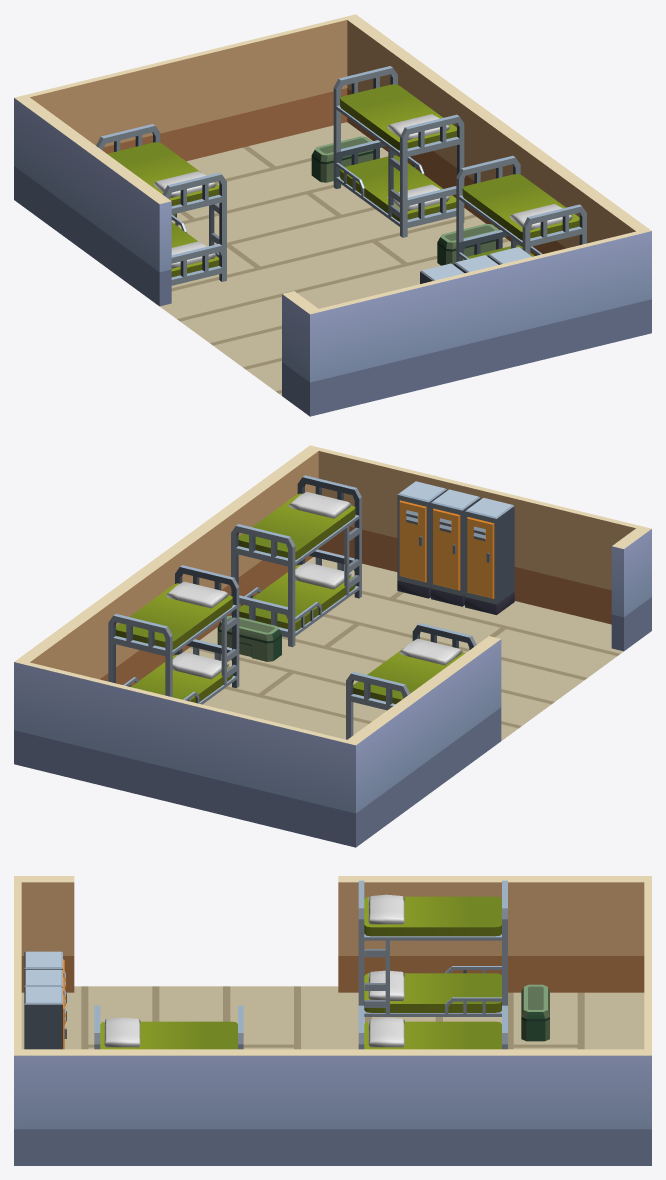
The model's file is Barrack_Lv2_b_Right.fbx.
The picture shows the model from 3 angles, top to bottom: view 1: azimuth 30°, elevation 25°; view 2: azimuth 150°, elevation 25°; view 3: azimuth 270°, elevation 25°; orthographic projection. The views are drawn at different scales.
Visible parts, largest first — view 1: Barrack_Lv2_b_Right6, Barrack_Lv2_b_Right8, Barrack_Lv2_b_Right7, Barrack_Lv2_b_Right4, Barrack_Lv2_b_Right14, Barrack_Lv2_b_Right1, Barrack_Lv2_b_Right13, Barrack_Lv2_b_Right5, Barrack_Lv2_b_Right11, Barrack_Lv2_b_Right15, Barrack_Lv2_b_Right10; view 2: Barrack_Lv2_b_Right7, Barrack_Lv2_b_Right8, Barrack_Lv2_b_Right6, Barrack_Lv2_b_Right4, Barrack_Lv2_b_Right14, Barrack_Lv2_b_Right5, Barrack_Lv2_b_Right1, Barrack_Lv2_b_Right12, Barrack_Lv2_b_Right13, Barrack_Lv2_b_Right11, Barrack_Lv2_b_Right2, Barrack_Lv2_b_Right9 (+1 smaller); view 3: Barrack_Lv2_b_Right14, Barrack_Lv2_b_Right4, Barrack_Lv2_b_Right8, Barrack_Lv2_b_Right13, Barrack_Lv2_b_Right11, Barrack_Lv2_b_Right5, Barrack_Lv2_b_Right1, Barrack_Lv2_b_Right9, Barrack_Lv2_b_Right6, Barrack_Lv2_b_Right3, Barrack_Lv2_b_Right7, Barrack_Lv2_b_Right12 (+1 smaller).
Part boxes in pixels (x1,y1,x2,y2): Barrack_Lv2_b_Right6: (307, 231, 651, 413); Barrack_Lv2_b_Right8: (160, 122, 510, 395); Barrack_Lv2_b_Right7: (14, 17, 347, 201); Barrack_Lv2_b_Right4: (14, 95, 171, 306); Barrack_Lv2_b_Right14: (344, 14, 651, 255); Barrack_Lv2_b_Right1: (333, 66, 464, 237); Barrack_Lv2_b_Right13: (96, 124, 226, 285); Barrack_Lv2_b_Right5: (456, 155, 586, 261); Barrack_Lv2_b_Right11: (282, 291, 322, 416); Barrack_Lv2_b_Right15: (311, 136, 373, 182); Barrack_Lv2_b_Right10: (437, 223, 498, 265); Barrack_Lv2_b_Right7: (14, 662, 359, 847); Barrack_Lv2_b_Right8: (184, 557, 623, 740); Barrack_Lv2_b_Right6: (316, 448, 639, 624); Barrack_Lv2_b_Right4: (344, 636, 501, 847); Barrack_Lv2_b_Right14: (14, 445, 321, 686); Barrack_Lv2_b_Right5: (231, 475, 361, 647); Barrack_Lv2_b_Right1: (108, 565, 239, 704); Barrack_Lv2_b_Right12: (465, 498, 514, 614); Barrack_Lv2_b_Right13: (346, 623, 476, 739); Barrack_Lv2_b_Right11: (611, 526, 651, 651); Barrack_Lv2_b_Right2: (431, 489, 480, 606); Barrack_Lv2_b_Right9: (397, 481, 446, 598); Barrack_Lv2_b_Right14: (14, 1049, 651, 1165); Barrack_Lv2_b_Right4: (338, 876, 651, 992); Barrack_Lv2_b_Right8: (21, 986, 644, 1049); Barrack_Lv2_b_Right13: (358, 880, 507, 1016); Barrack_Lv2_b_Right11: (14, 876, 74, 992); Barrack_Lv2_b_Right5: (94, 1005, 243, 1049); Barrack_Lv2_b_Right1: (358, 1005, 507, 1049); Barrack_Lv2_b_Right9: (24, 987, 66, 1049); Barrack_Lv2_b_Right6: (14, 882, 21, 1165); Barrack_Lv2_b_Right3: (521, 984, 549, 1041); Barrack_Lv2_b_Right7: (644, 882, 651, 1049); Barrack_Lv2_b_Right12: (24, 951, 66, 1003).
Bounding box in the file's own units: 700 × 212 × 1050.
